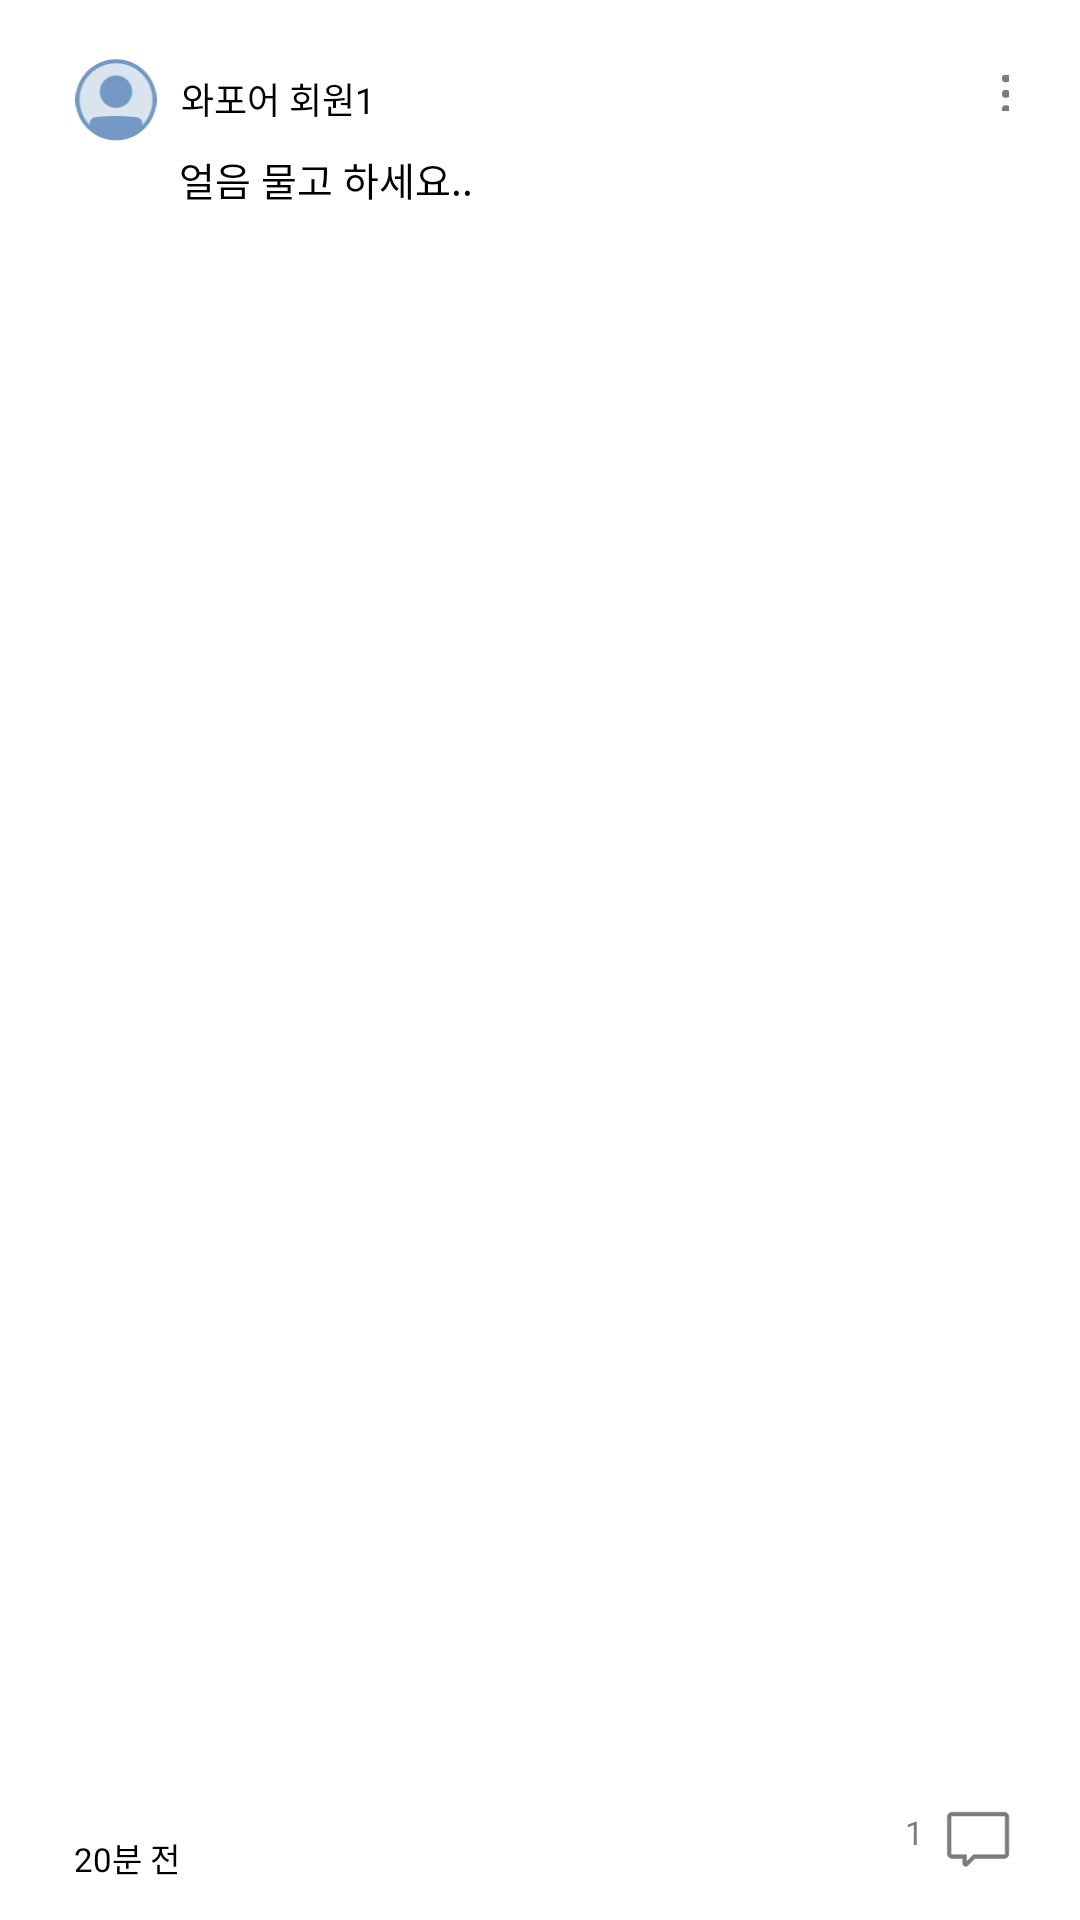

Screen size 1080x1920. Icon name, then its center in pixels as point (x, y):
post comment: point (978, 1839)
user profile tmp: point (116, 100)
